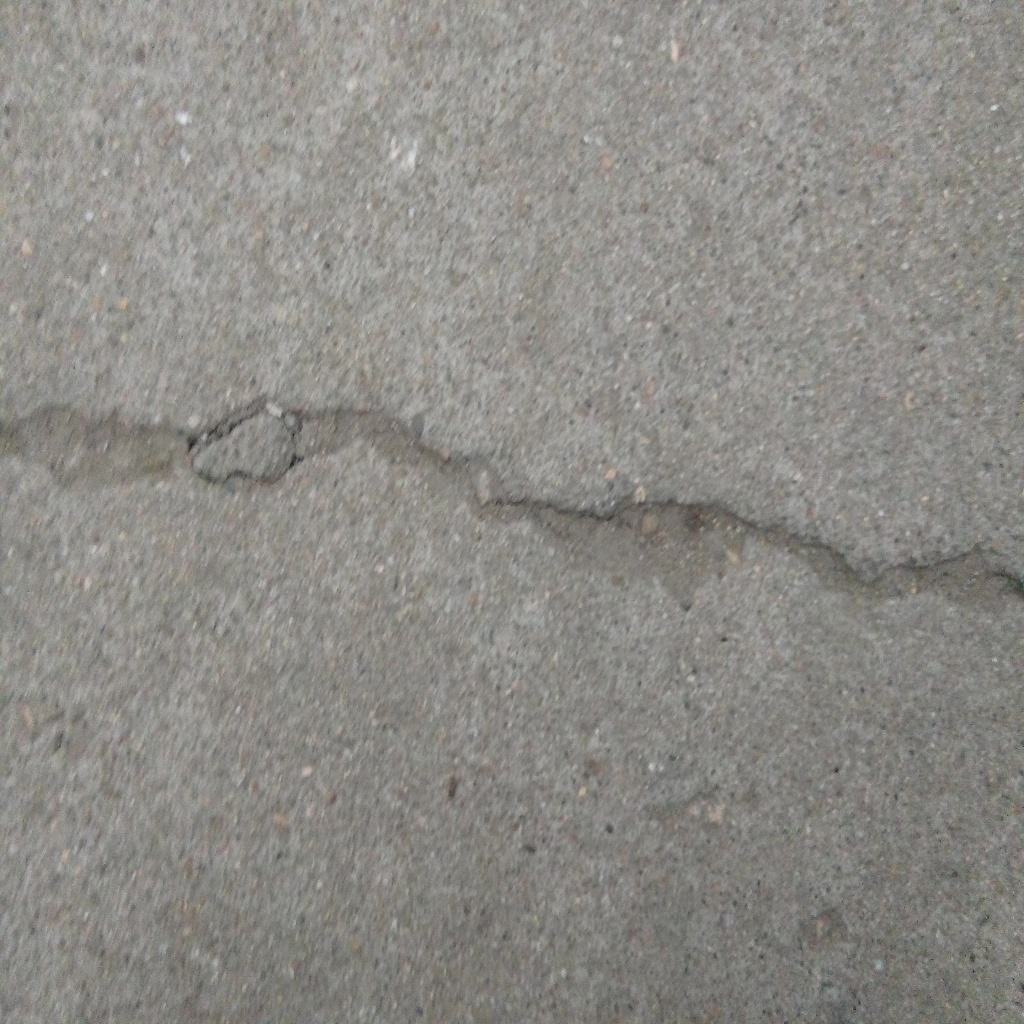Crack: (1, 391, 1024, 622)
